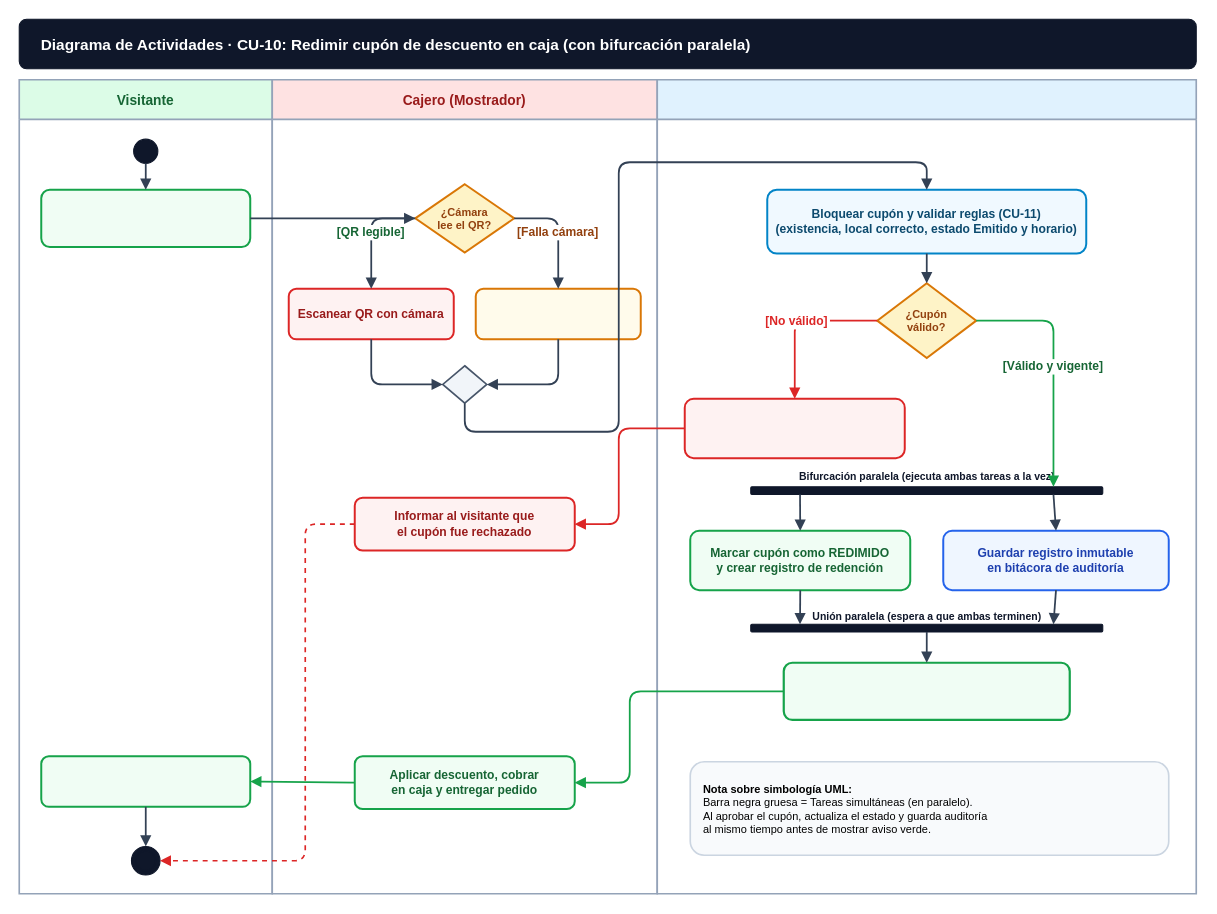
The diagram is 1217 pixels wide and 914 high, and some of its shapes have lost their labels. The box of each missing label's shape, as (x1, y1, x2, y2) in pixels:
Desplegar pantalla verde de aprobado con combo y descuento: (782, 661, 1070, 721)
Digitar código manualmente: (474, 287, 641, 340)
Liberar bloqueo y mostrar aviso rojo con motivo exacto: (683, 397, 905, 459)
Presentar código QR del cupón en el celular: (40, 188, 251, 247)
Recibir pedido con descuento: (40, 755, 251, 807)
Sistema Nuvora: (656, 78, 1197, 894)
